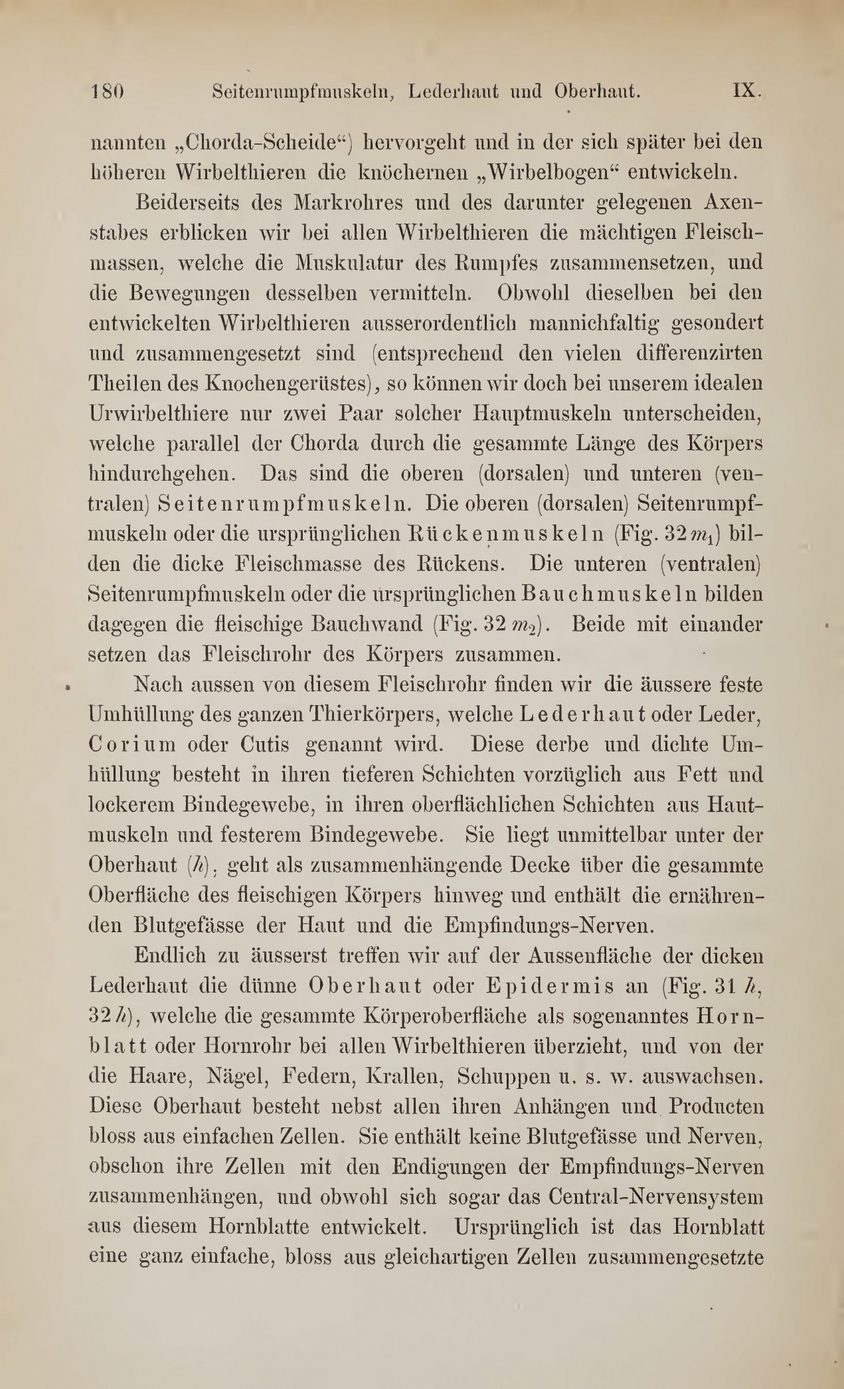MainZone: (63, 123, 788, 1288)
NumberingZone chapter: (714, 66, 777, 108)
NumberingZone_page: (80, 70, 148, 111)
RunningTitleZone: (196, 73, 655, 109)
